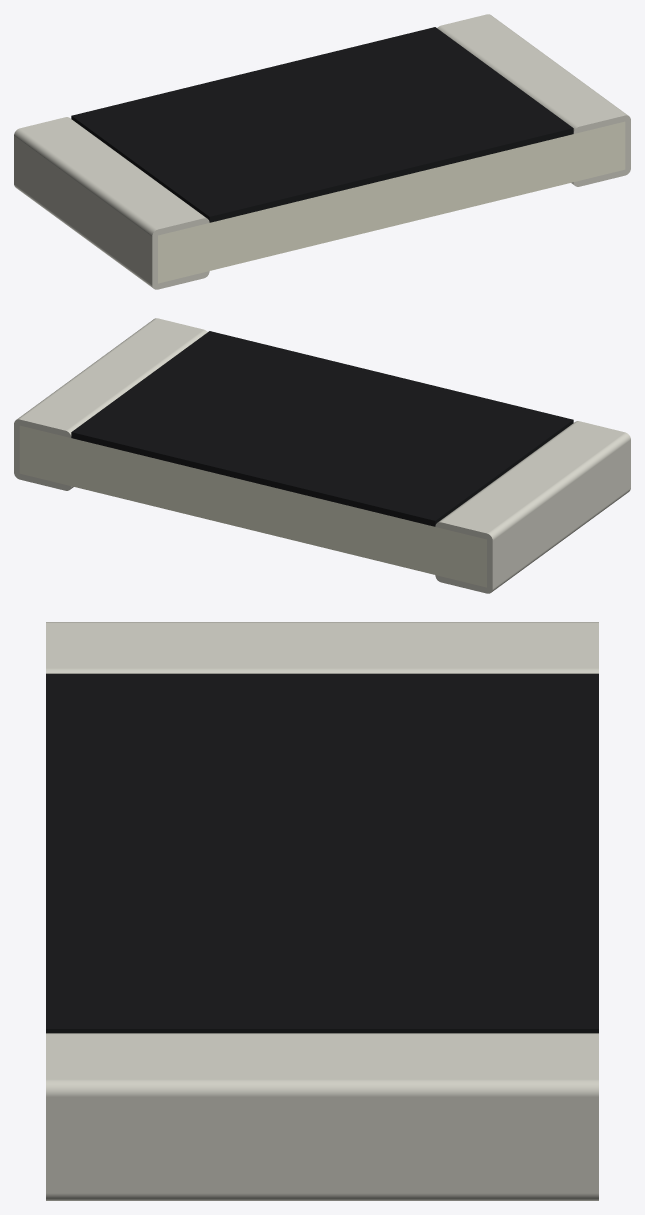
File: R_2010_5025Metric.glb
3 renders of one model, top to bottom at view 1: azimuth 30°, elevation 25°; view 2: azimuth 150°, elevation 25°; view 3: azimuth 270°, elevation 25°, orthographic. The views are drawn at different scales.
Parts seen in each view (by area): view 1: =>[0:1:1:3]; view 2: =>[0:1:1:3]; view 3: =>[0:1:1:3].
Boxes of the visible parts, x1,y1,x2,y2 form: =>[0:1:1:3]: (14,14,630,289); =>[0:1:1:3]: (14,318,630,593); =>[0:1:1:3]: (46,622,598,1200).
Size of the model in its own units: 0.005 by 0.0006 by 0.0025.
